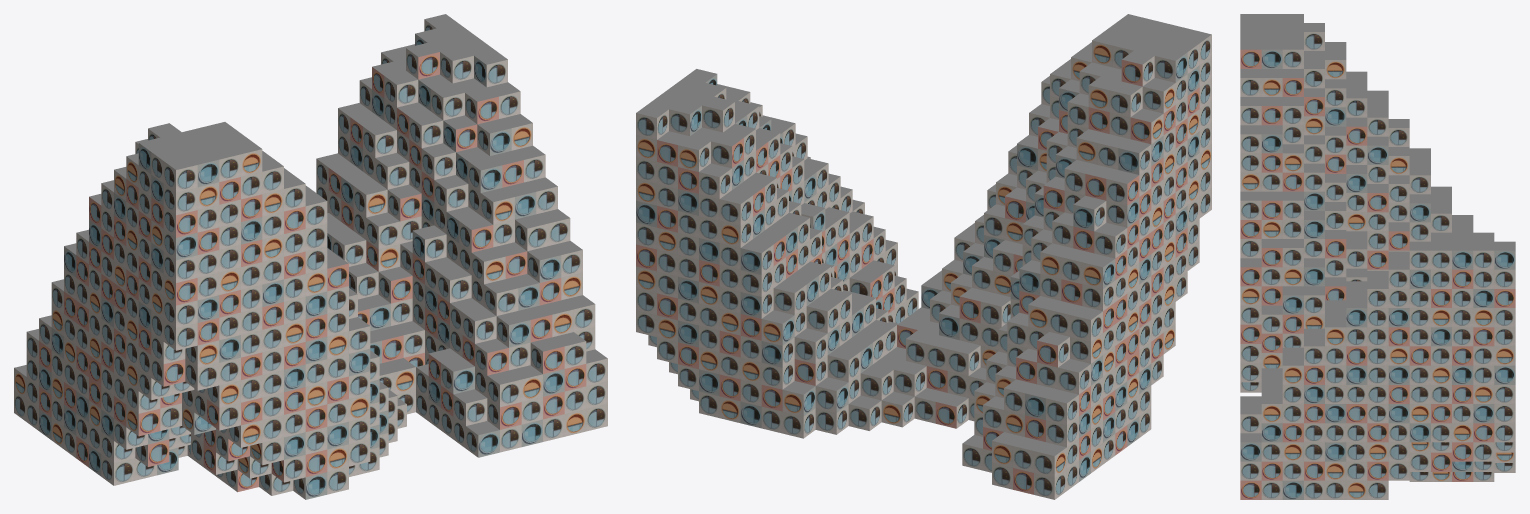
Rendered from archweekend_1_10.glb.
The picture shows the model from 3 angles, left to right: view 1: azimuth 30°, elevation 25°; view 2: azimuth 150°, elevation 25°; view 3: azimuth 270°, elevation 25°; orthographic projection. The views are drawn at different scales.
Parts seen in each view (by area): view 1: house-5.002; view 2: house-5.002; view 3: house-5.002.
Boxes of the visible parts, bbox=[...] form: house-5.002: bbox=[14, 14, 607, 499]; house-5.002: bbox=[636, 14, 1211, 499]; house-5.002: bbox=[1240, 14, 1515, 499].
Size of the model in its own units: 60 by 48 by 39.
2 materials, 1 textured.
